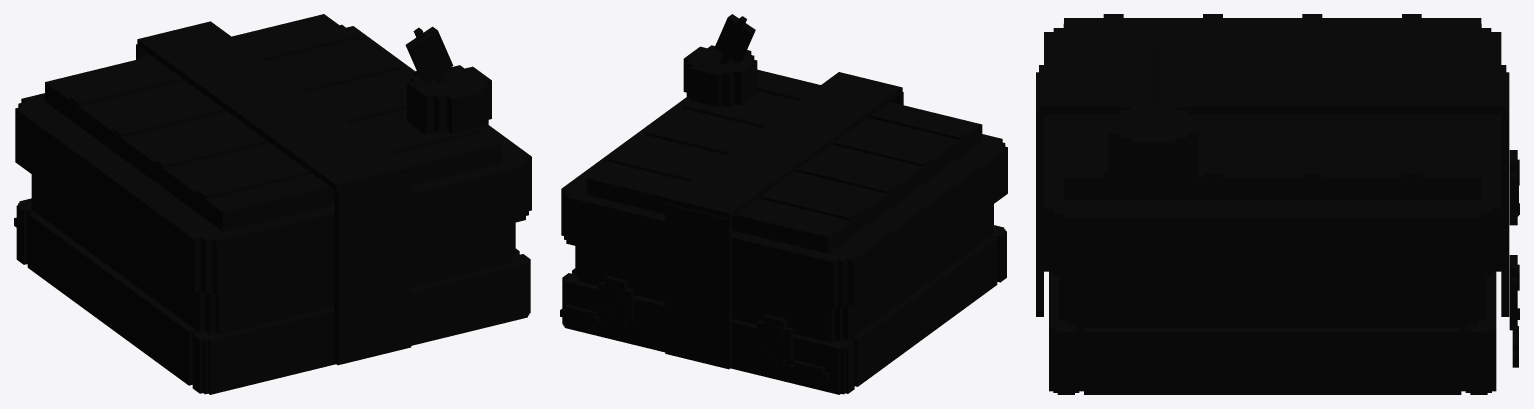
File: hat_sushi.obj
3 views of the same model, side by side, from view 1: azimuth 30°, elevation 25°; view 2: azimuth 150°, elevation 25°; view 3: azimuth 270°, elevation 25° (orthographic). The views are drawn at different scales.
Size of the model in its own units: 0.575 by 0.4371 by 0.6084.
